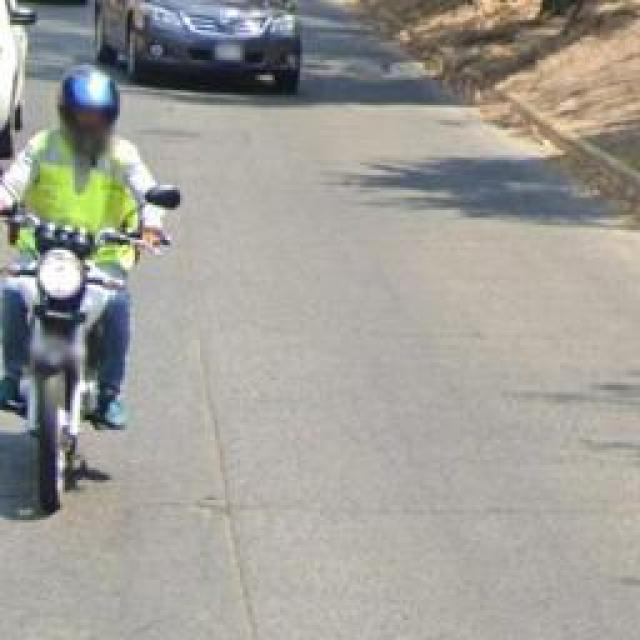car: (101, 0, 313, 108)
motorbike: (3, 60, 157, 528)
